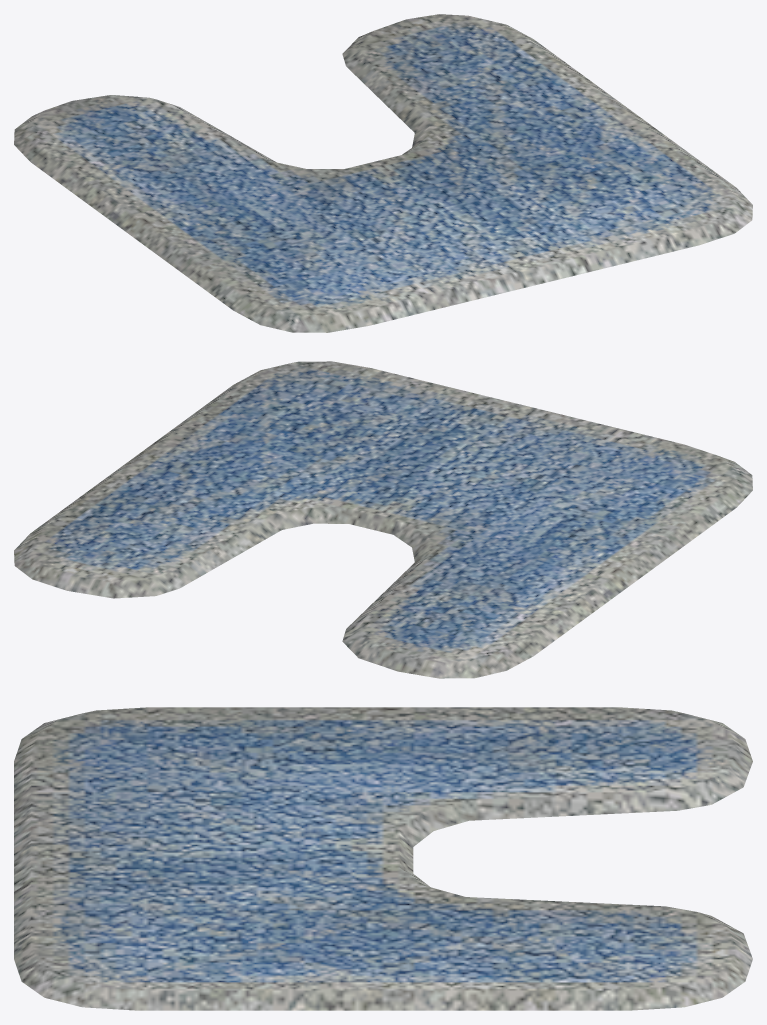
Rendered from toiletrug02.DAE.
3 renders of one model, top to bottom at view 1: azimuth 30°, elevation 25°; view 2: azimuth 150°, elevation 25°; view 3: azimuth 270°, elevation 25°, orthographic. The views are drawn at different scales.
Visible parts, largest first — view 1: toiletrug02; view 2: toiletrug02; view 3: toiletrug02.
Part boxes in pixels (box(x1,y1,x2,y2)): toiletrug02: box(14, 14, 752, 332); toiletrug02: box(14, 361, 752, 678); toiletrug02: box(14, 707, 752, 1010).
Bounding box in the file's own units: 0.8257 × 0.0141 × 0.8586.
